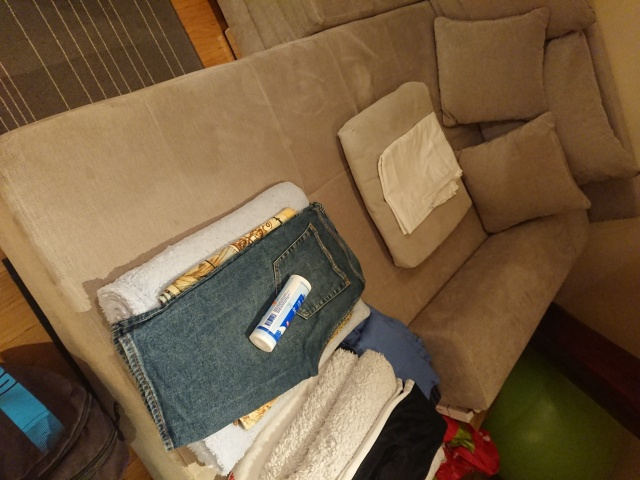Solana Pag Fine Sea Salt 250g: (247, 273, 314, 354)
